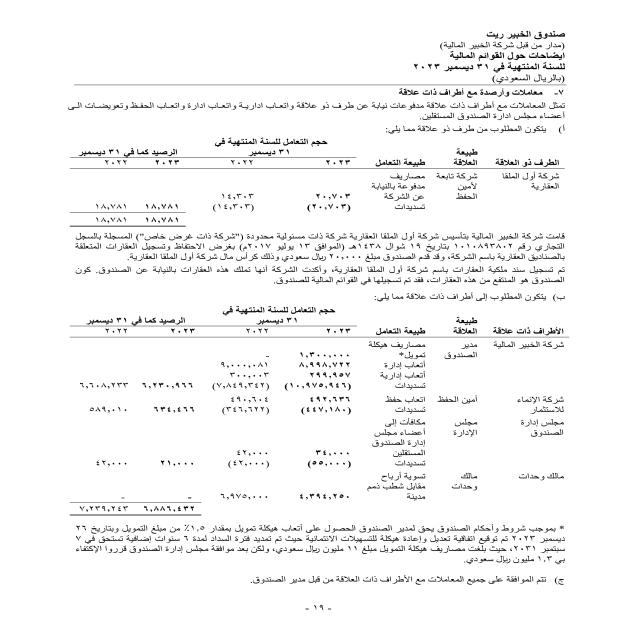notes: (432, 52, 576, 62)
table: (48, 306, 586, 523), (44, 138, 586, 224)
